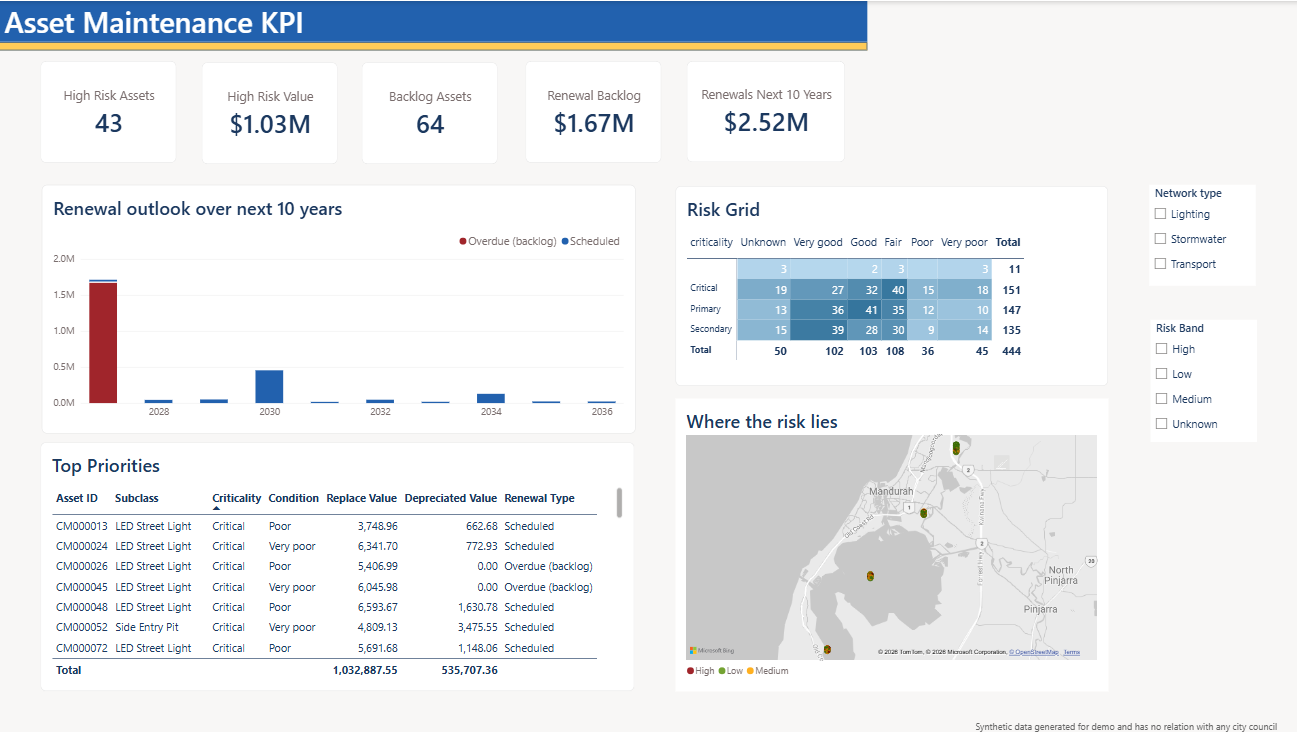

This screenshot's page, from the dashboard's own definition file:
{"tool":"powerbi","page":{"name":"Maintenance","canvas":[1920,1080],"ordinal":1},"visuals":[{"type":"shape","box":[0,0,1280,60],"z":0},{"type":"shape","box":[0,60,1280,12],"z":1000},{"type":"textbox","box":[10,0,1279.1,60.7],"z":2000},{"type":"textbox","box":[1439.3,1058.3,480.4,22.1],"z":3000},{"type":"map","title":"Where the risk lies","fields":{"Series":["register_asset.Risk Band"],"Size":["Sum(register_asset.replacement_value)"],"X":["register_asset.longitude"],"Y":["register_asset.latitude"]},"box":[997.6,585.3,636.8,430.7],"z":4000},{"type":"columnChart","title":"Renewal outlook over next 10 years","fields":{"Category":["register_asset.Planned Year"],"Series":["register_asset.Renewal Type"],"Y":["Sum(register_asset.replacement_value)"]},"box":[64.4,270.6,874.2,366.3],"z":5000},{"type":"cardVisual","fields":{"Data":["_Measure_Planning_Insights.High Risk Assets"]},"box":[62,88,200,150],"z":6000},{"type":"cardVisual","fields":{"Data":["_Measure_Planning_Insights.High Risk Value"]},"box":[300,90,200,150],"z":7000},{"type":"cardVisual","fields":{"Data":["_Measure_Planning_Insights.Backlog Assets"]},"box":[536,90,200,150],"z":8000},{"type":"cardVisual","fields":{"Data":["_Measure_Planning_Insights.Renewals Next 10 Years"]},"box":[1014.1,88.3,233.7,149.1],"z":9000},{"type":"cardVisual","fields":{"Data":["_Measure_Planning_Insights.Renewal Backlog"]},"box":[776,88,200,150],"z":10000},{"type":"pivotTable","title":"Risk Grid","fields":{"Columns":["register_asset.Condition Label"],"Rows":["register_asset.criticality"],"Values":["_Measure_Register_Health.Asset Count"]},"box":[997.6,272.4,636.8,294.5],"z":11000},{"type":"tableEx","title":"Top Priorities","fields":{"Values":["register_asset.asset_id","dim_asset_type.subclass","register_asset.criticality","register_asset.Condition Label","Sum(register_asset.replacement_value)","Sum(register_asset.depreciated_value)","register_asset.Renewal Type"]},"box":[62.6,649.7,874,366],"z":12000},{"type":"slicer","fields":{"Values":["dim_asset_type.network"]},"box":[1695.1,270.6,156.4,149.1],"z":13000},{"type":"slicer","fields":{"Values":["register_asset.Risk Band"]},"box":[1696.9,469.3,156.4,180.4],"z":14000}]}

Visuals, with their boxes in screenshot pixels (x1, y1, x2, y2), scaled from the page's 1920x1080 canvas onto the 1297x732 screenshot:
shape: 0, 0, 865, 41
shape: 0, 41, 865, 49
textbox: 7, 0, 871, 41
textbox: 972, 717, 1296, 731
"Where the risk lies" map: 674, 397, 1104, 689
"Renewal outlook over next 10 years" columnChart: 44, 183, 634, 432
cardVisual - _Measure_Planning_Insights.High Risk Assets: 42, 60, 177, 161
cardVisual - _Measure_Planning_Insights.High Risk Value: 203, 61, 338, 163
cardVisual - _Measure_Planning_Insights.Backlog Assets: 362, 61, 497, 163
cardVisual - _Measure_Planning_Insights.Renewals Next 10 Years: 685, 60, 843, 161
cardVisual - _Measure_Planning_Insights.Renewal Backlog: 524, 60, 659, 161
"Risk Grid" pivotTable: 674, 185, 1104, 384
"Top Priorities" tableEx: 42, 440, 633, 688
slicer - dim_asset_type.network: 1145, 183, 1251, 284
slicer - register_asset.Risk Band: 1146, 318, 1252, 440
